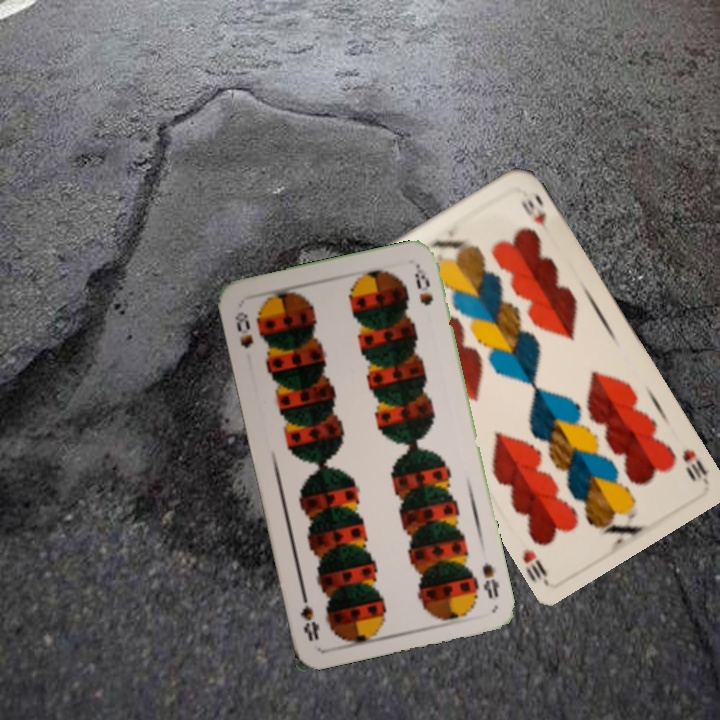H10: (678, 445, 710, 484)
S8: (231, 307, 256, 351), (478, 558, 502, 601)
